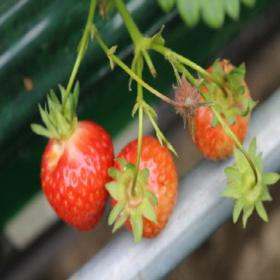Gray Mold: (169, 70, 213, 134)
